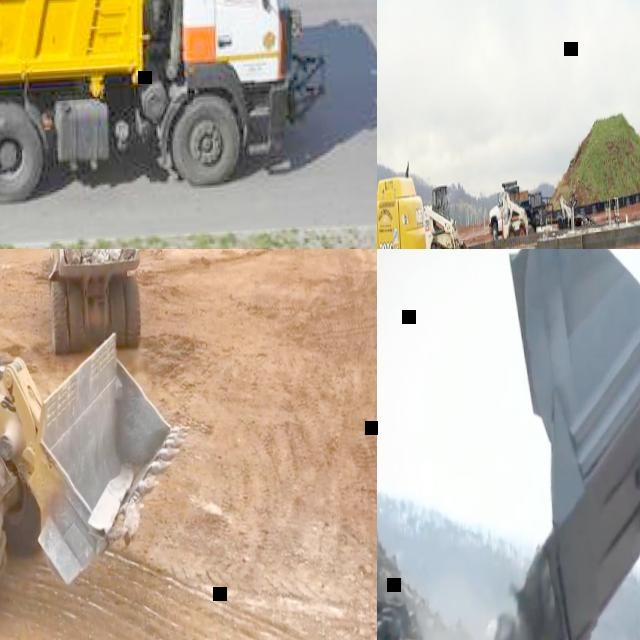machinery: (0, 249, 183, 640), (0, 0, 304, 217), (504, 249, 640, 640), (377, 0, 433, 249), (37, 249, 152, 365), (486, 179, 554, 236), (422, 183, 472, 249), (501, 190, 530, 238)
